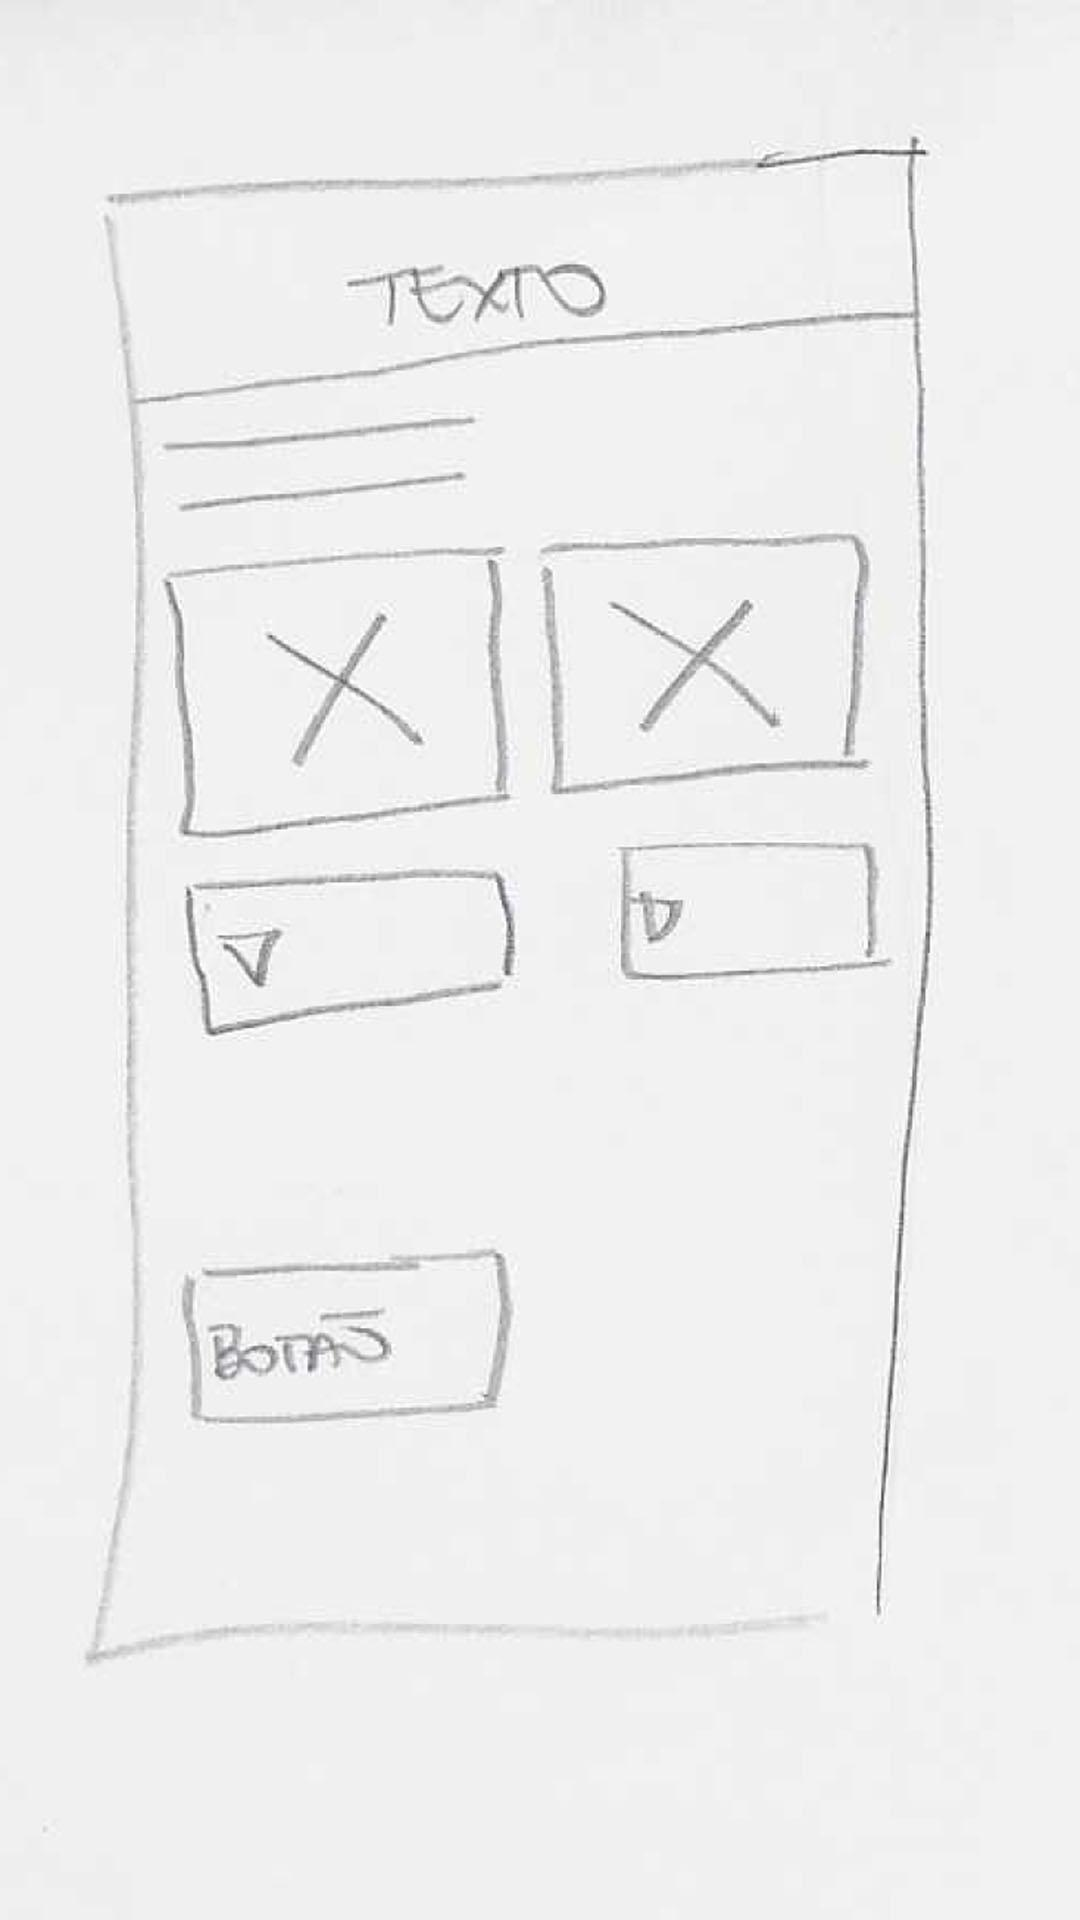Button: (178, 1253, 510, 1422)
Image: (165, 550, 502, 837), (539, 533, 866, 794)
Label: (161, 417, 480, 514), (344, 264, 605, 328)
Screen: (86, 148, 935, 1664)
TextBox: (187, 869, 516, 1036), (620, 843, 874, 980)
